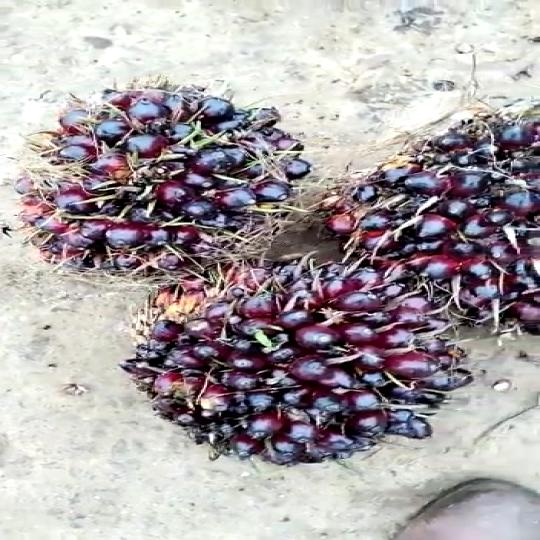mentah: (144, 270, 461, 476), (23, 80, 297, 265), (332, 103, 540, 320)
